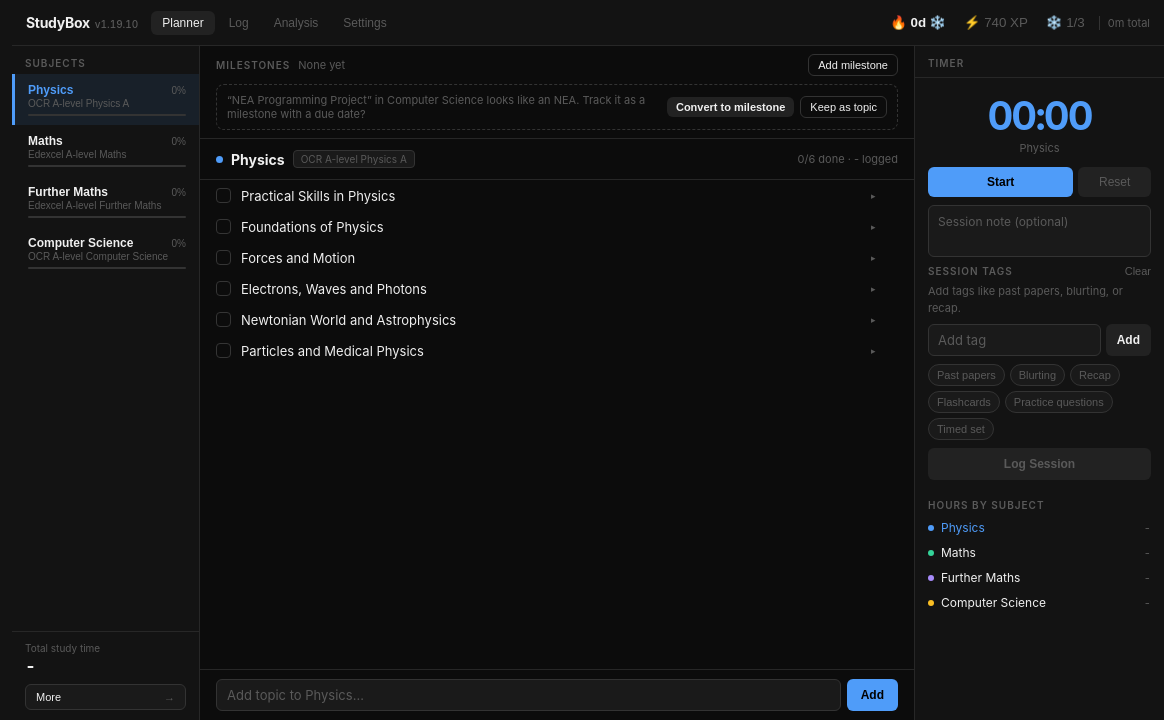
StudyBox shell › keeps the XP an existing install had already earned
Expected: the text "⚡ 740 XP" is shown, [964,15,1028,30]
Click the checkbox named "Complete topic Practical Skills in Physics" at (224, 196), box [216,188,231,203]
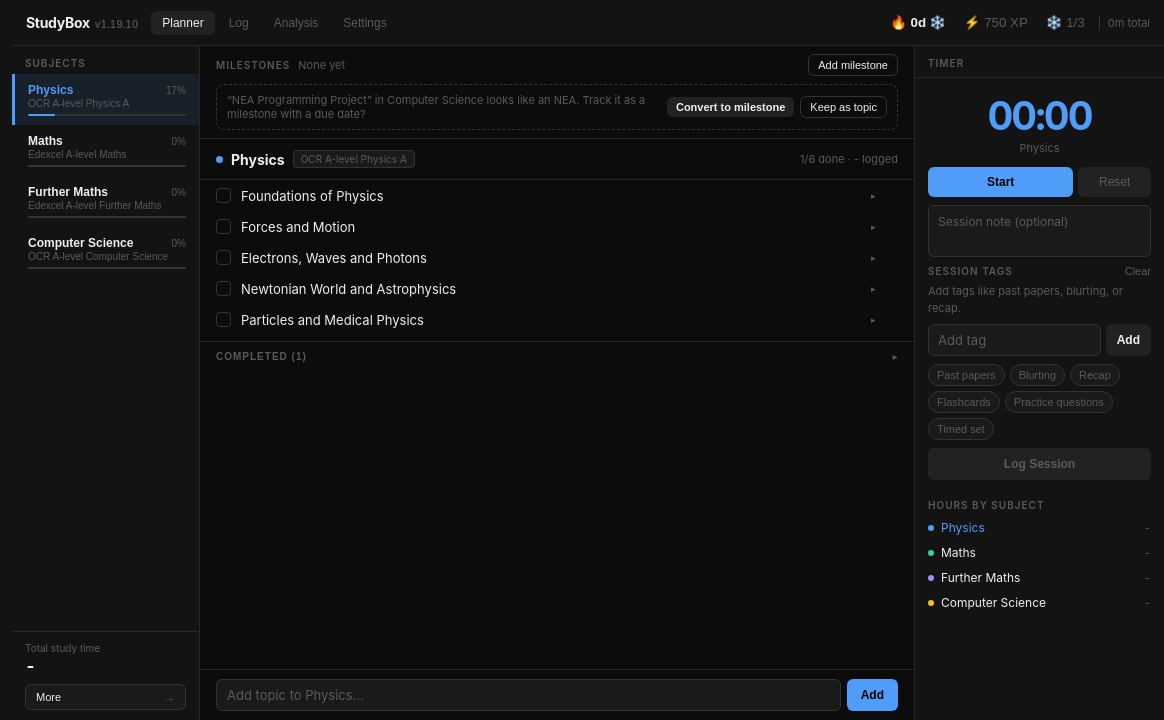
Now the text "⚡ 750 XP" is shown, box [964,15,1028,30]
Click the button "Completed (1) ▸" at (256, 356), box [200,342,914,371]
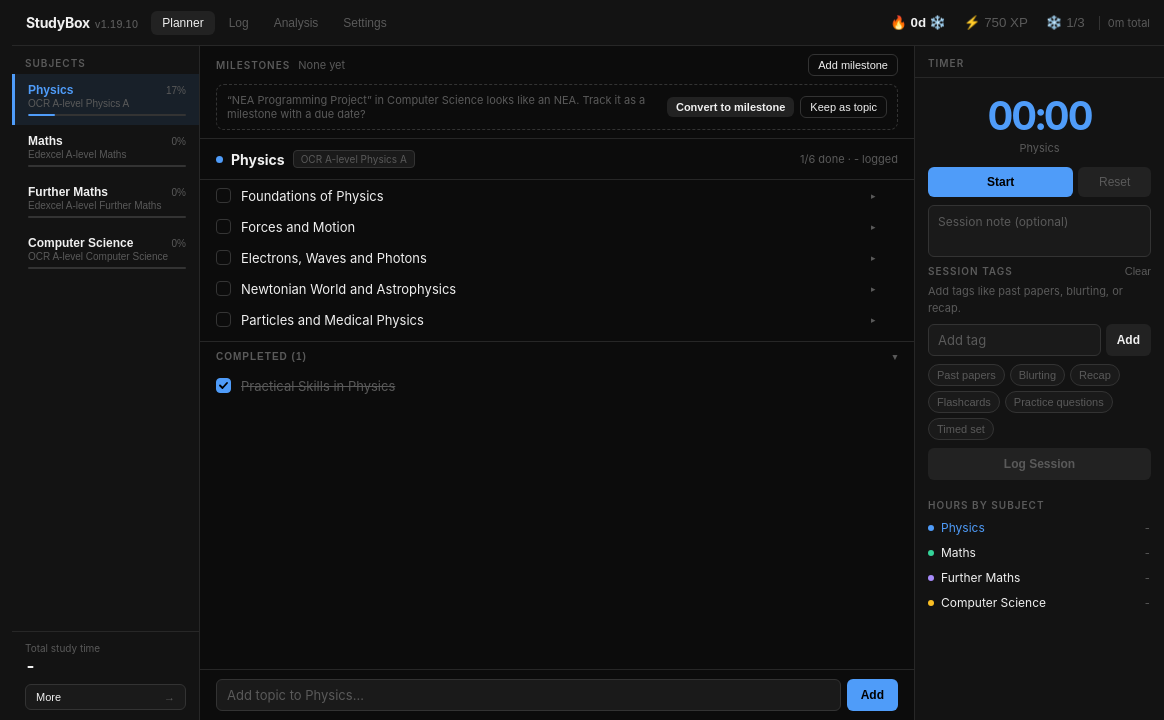
Click the checkbox named "Reopen topic Practical Skills in Physics" at (224, 386), box [216,378,231,393]
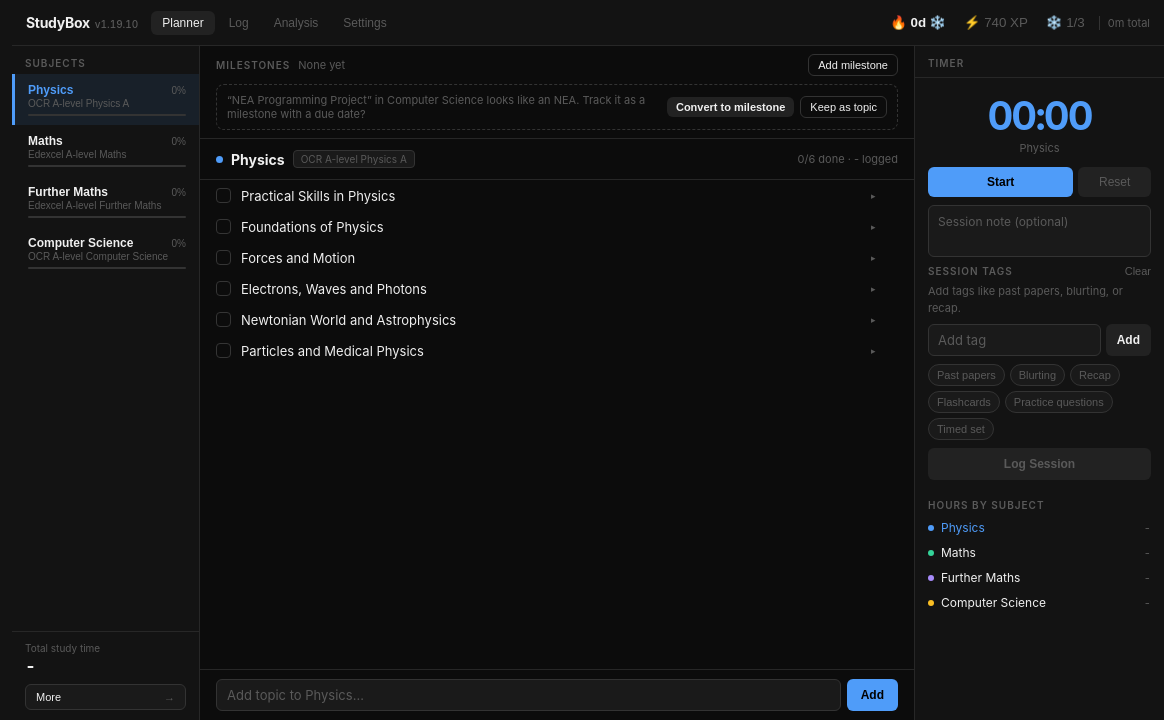
Now the text "⚡ 740 XP" is shown, box [964,15,1028,30]
